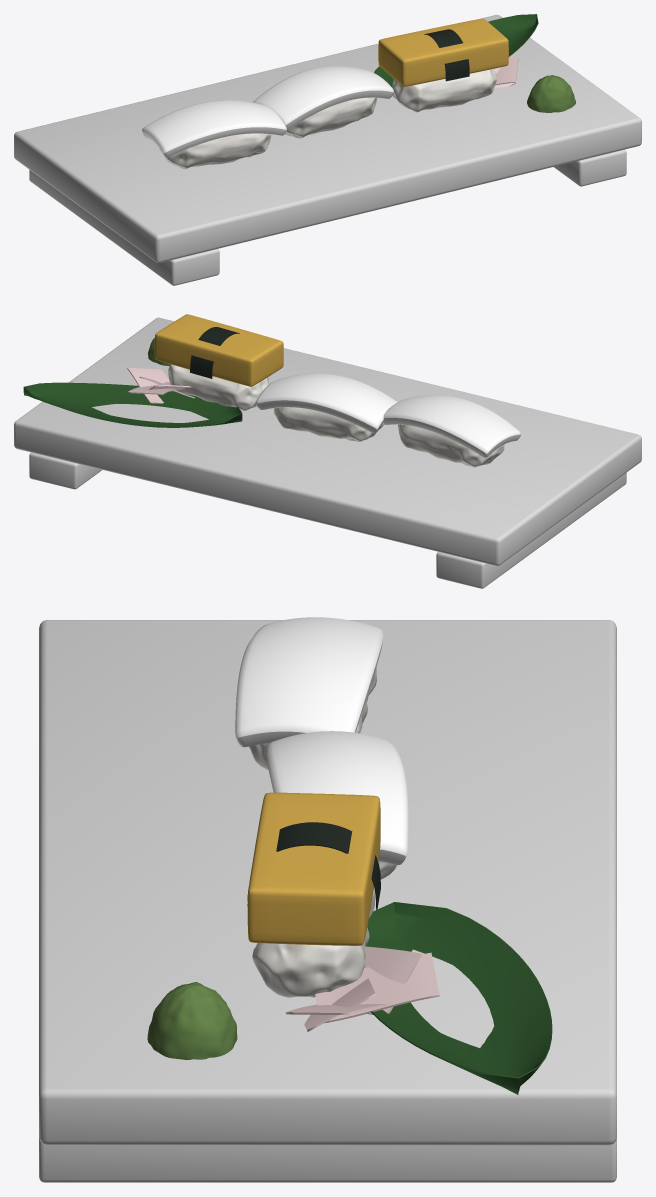
The model's file is sushi.glb.
3 renders of one model, top to bottom at view 1: azimuth 30°, elevation 25°; view 2: azimuth 150°, elevation 25°; view 3: azimuth 270°, elevation 25°, orthographic. The views are drawn at different scales.
Visible parts, largest first — view 1: 寿司下駄, 玉子焼, 鮪の種, 鮭の種, 下駄の足, 玉子の舎利, 鮪の舎利, 鮭の舎利, 下駄の足.001, 山葵, 笹, 海苔 (+1 smaller); view 2: 寿司下駄, 玉子焼, 笹, 鮭の種, 鮪の種, 下駄の足, 玉子の舎利, 鮭の舎利, 鮪の舎利, 下駄の足.001, 海苔, 生姜1; view 3: 寿司下駄, 下駄の足.001, 笹, 玉子焼, 鮪の種, 鮭の種, 山葵, 玉子の舎利, 生姜3, 海苔, 生姜2, 生姜0.
Part boxes in pixels (x1,y1,x2,y2): 寿司下駄: (14, 14, 641, 262); 玉子焼: (378, 18, 508, 86); 鮪の種: (142, 100, 286, 157); 鮭の種: (253, 66, 393, 129); 下駄の足: (29, 170, 219, 285); 玉子の舎利: (392, 69, 496, 112); 鮪の舎利: (159, 133, 271, 169); 鮭の舎利: (285, 98, 377, 138); 下駄の足.001: (554, 149, 626, 186); 山葵: (527, 75, 575, 112); 笹: (374, 14, 538, 87); 海苔: (424, 29, 469, 81); 寿司下駄: (14, 317, 641, 565); 玉子焼: (154, 314, 283, 386); 笹: (23, 382, 242, 427); 鮭の種: (255, 373, 397, 433); 鮪の種: (383, 395, 520, 457); 下駄の足: (436, 472, 626, 588); 玉子の舎利: (168, 364, 269, 410); 鮭の舎利: (273, 407, 383, 441); 鮪の舎利: (398, 424, 504, 467); 下駄の足.001: (29, 452, 101, 489); 海苔: (190, 327, 239, 378); 生姜1: (127, 367, 169, 403); 寿司下駄: (39, 620, 616, 1145); 下駄の足.001: (39, 1137, 616, 1182); 笹: (366, 902, 552, 1094); 玉子焼: (247, 792, 380, 945); 鮪の種: (235, 617, 383, 747); 鮭の種: (266, 731, 408, 865); 山葵: (147, 982, 237, 1059); 玉子の舎利: (252, 887, 375, 997); 生姜3: (315, 952, 439, 1023); 海苔: (247, 822, 380, 909); 生姜2: (364, 946, 421, 1014); 生姜0: (304, 978, 376, 1031).
Bounding box in the file's own units: 0.2517 × 0.0574 × 0.126.
